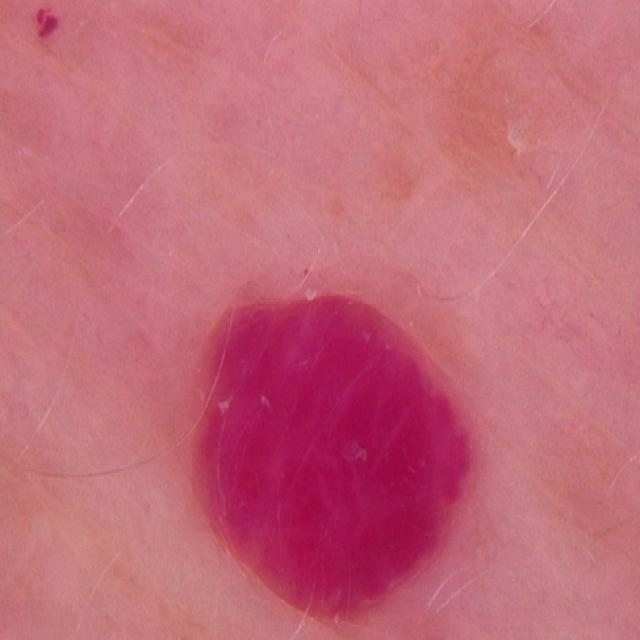Vascular Lesions: (143, 222, 502, 640)
